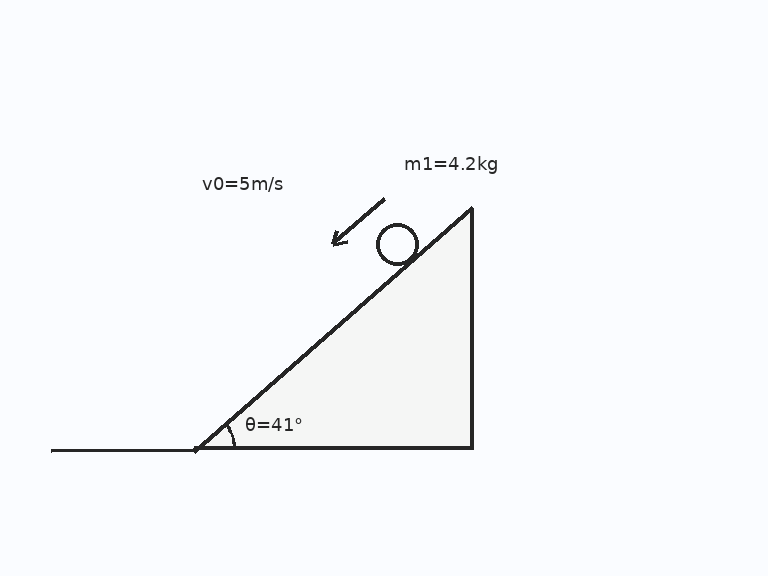ball: (374, 221, 420, 267)
ramp: (192, 206, 474, 451)
